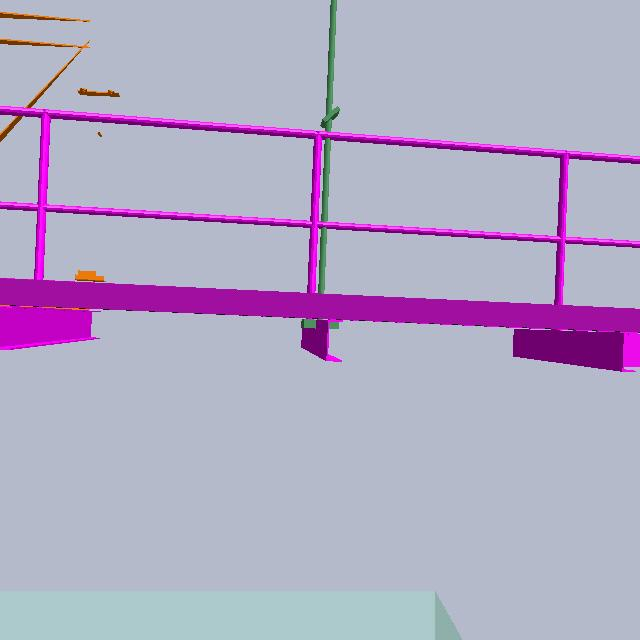Poste: (295, 1, 349, 342)
